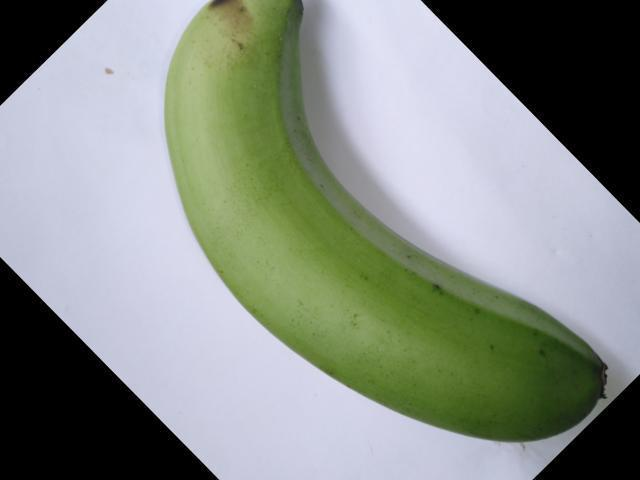freshunripe: (144, 0, 630, 450)
